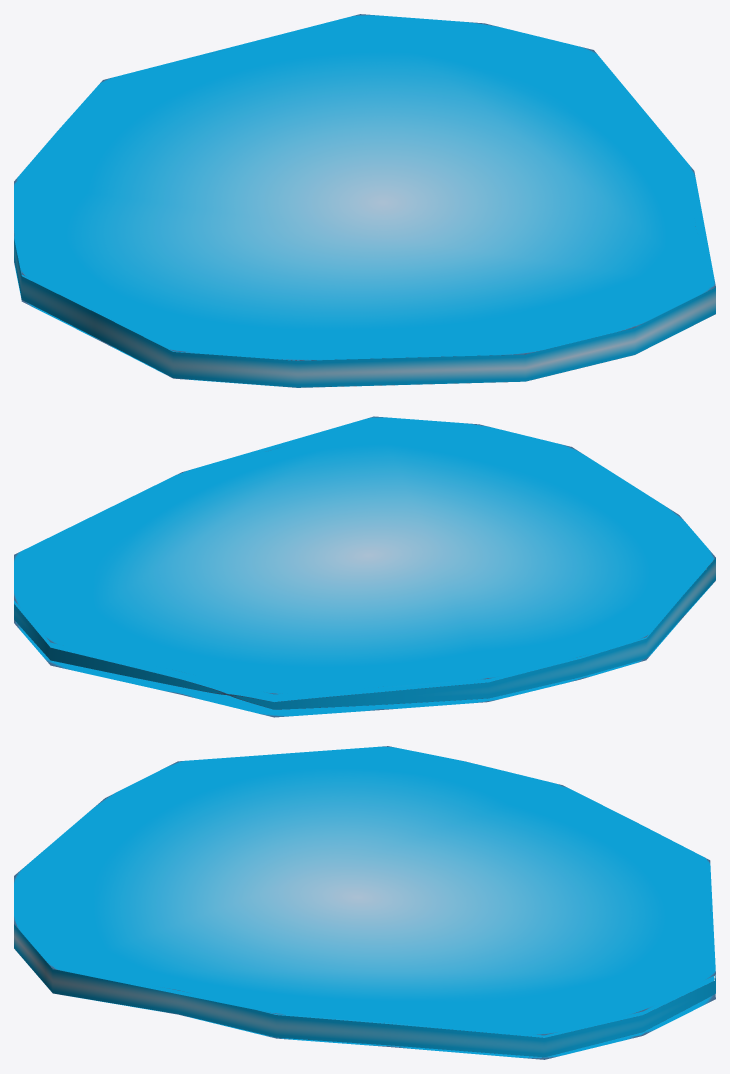
Rendered from puddle.FBX.
3 views of the same model, one above another, from view 1: azimuth 30°, elevation 25°; view 2: azimuth 150°, elevation 25°; view 3: azimuth 270°, elevation 25° (orthographic). The views are drawn at different scales.
Parts seen in each view (by area): view 1: Cylinder001; view 2: Cylinder001; view 3: Cylinder001.
Boxes of the visible parts, left/top/right/bottom form: Cylinder001: left=14, top=14, right=715, bottom=387; Cylinder001: left=14, top=416, right=715, bottom=717; Cylinder001: left=14, top=746, right=715, bottom=1059.
Size of the model in its own units: 14.59 by 0.576 by 14.96.
Materials: 1 (1 with a texture image).
